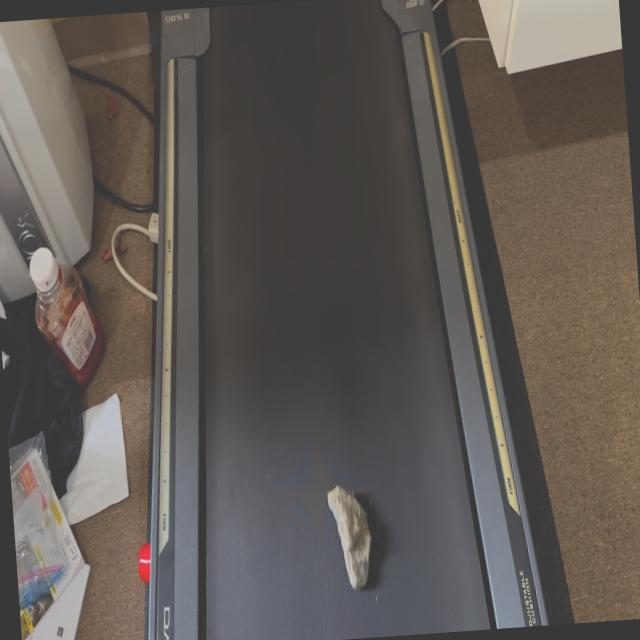Trash: (324, 482, 376, 592)
